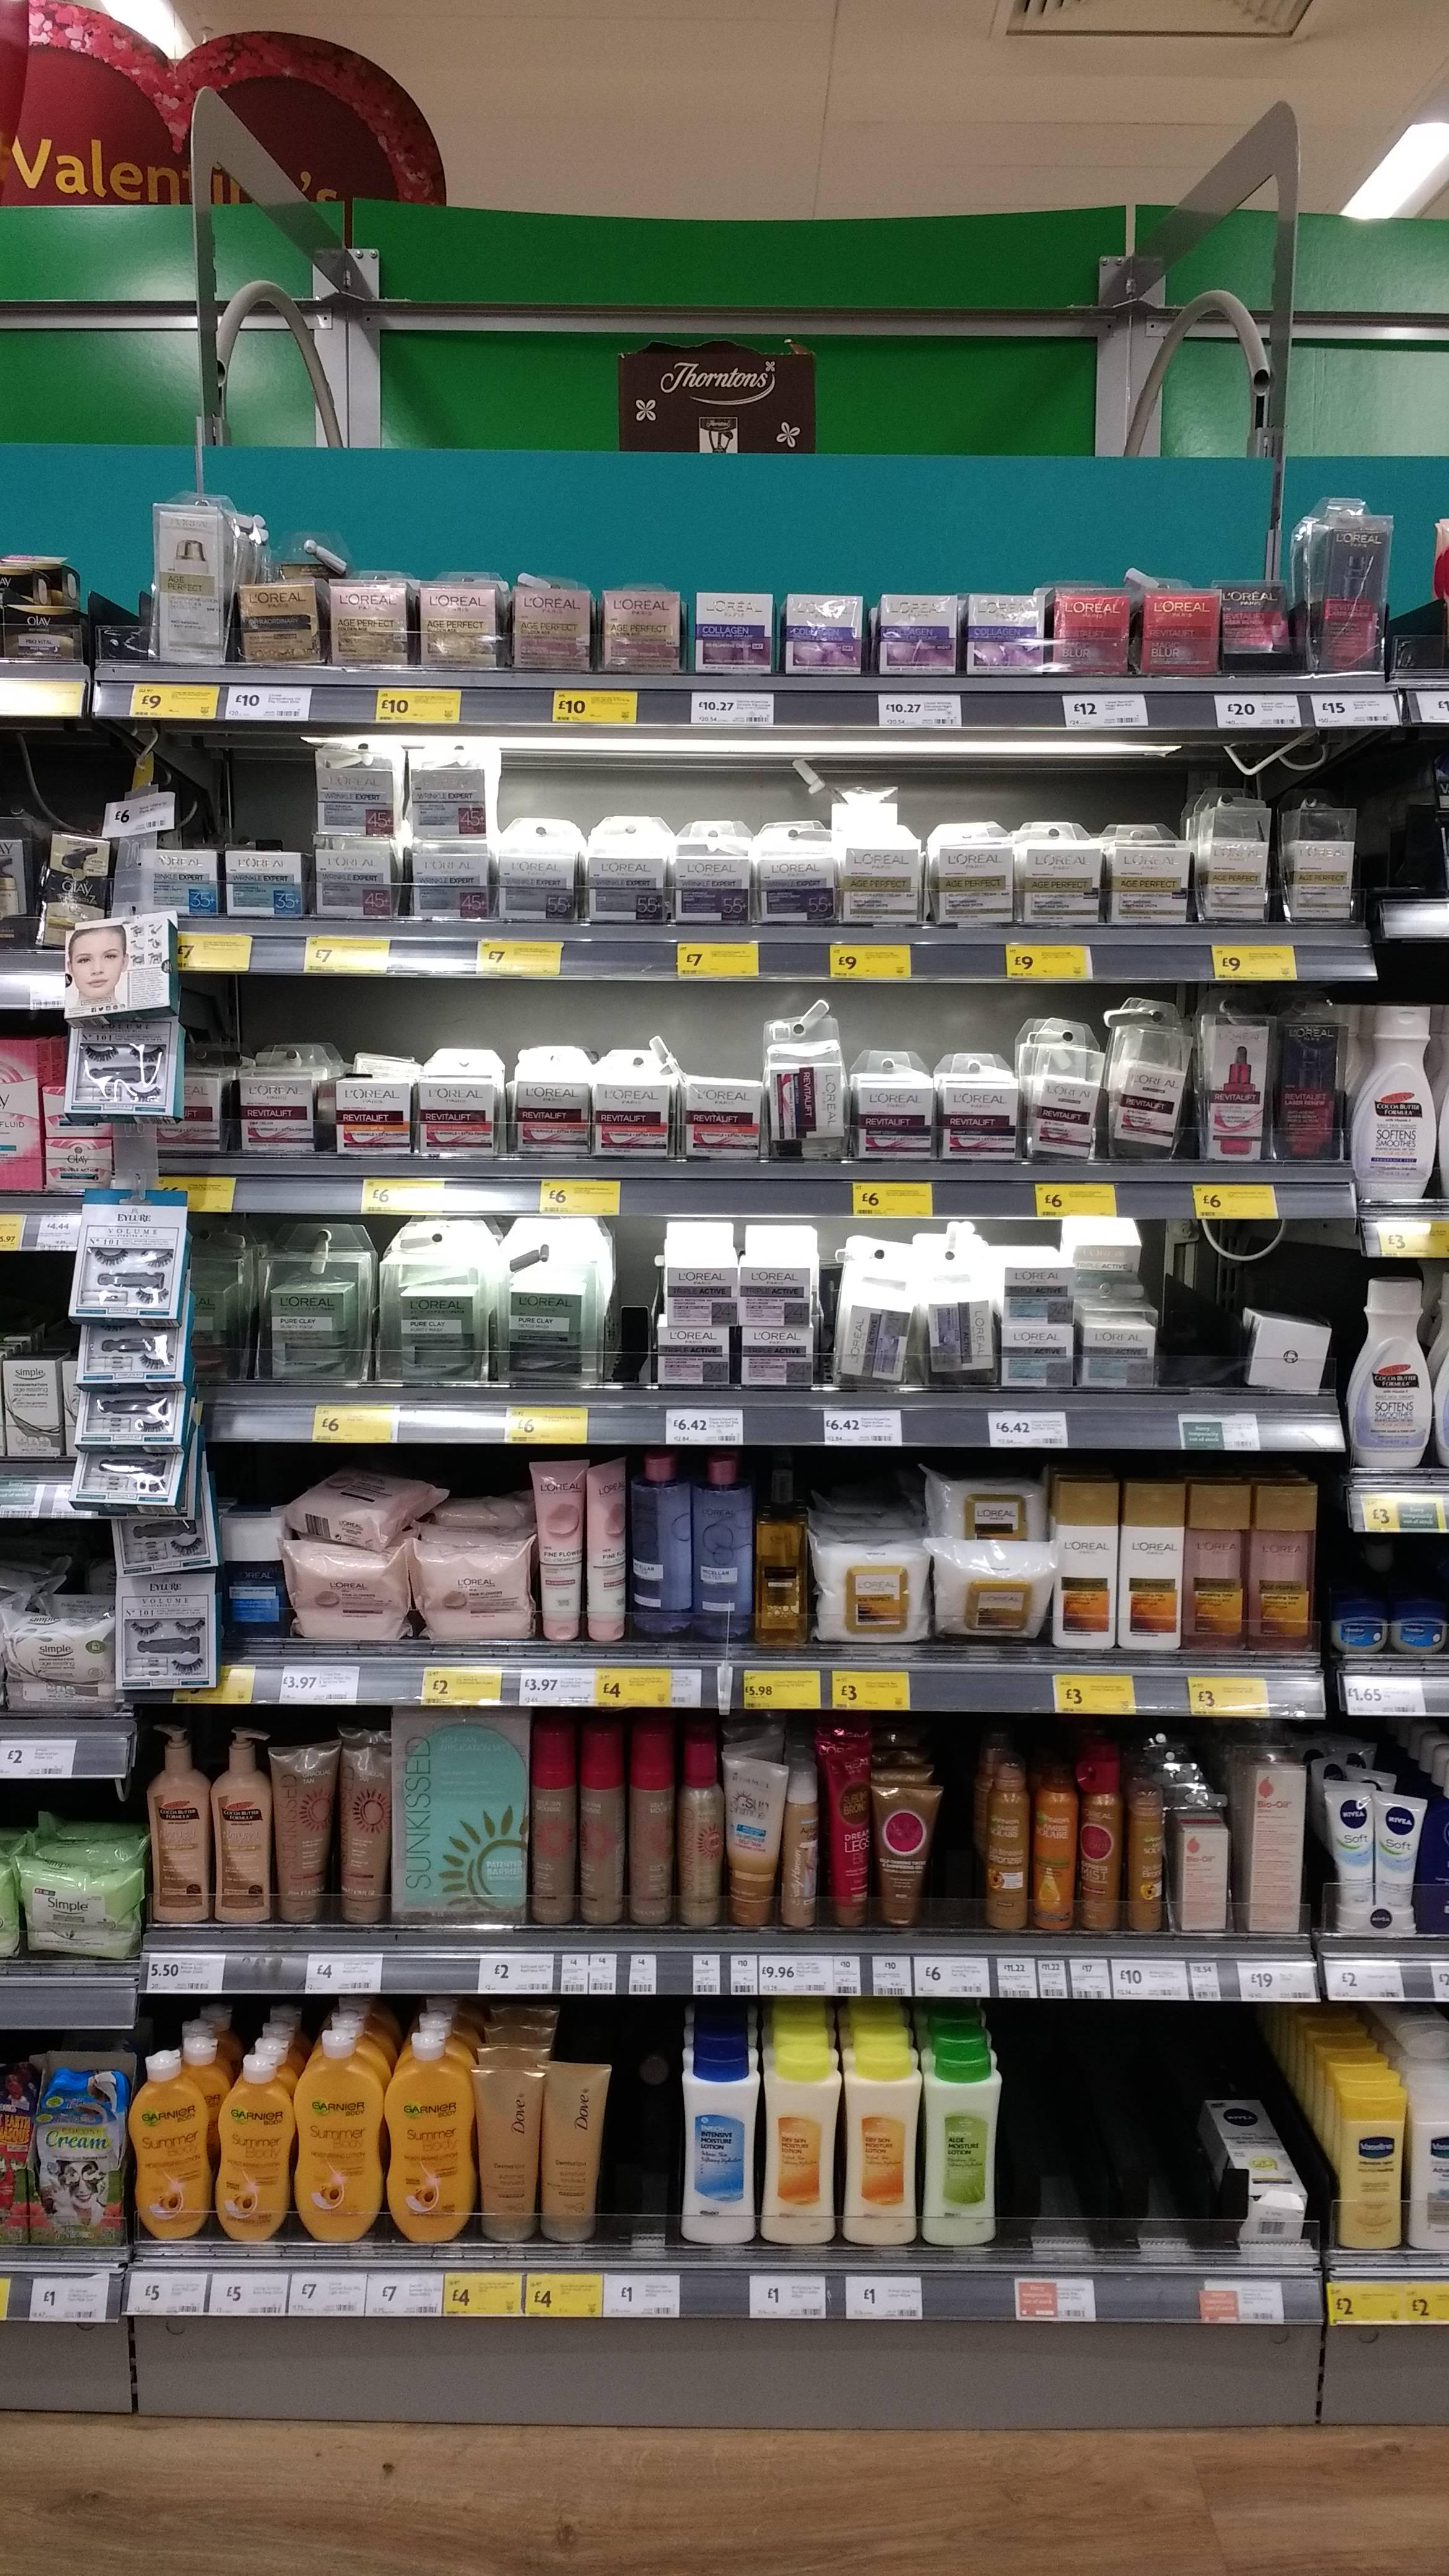misalignment: (1203, 2084, 1299, 2252), (1230, 1279, 1341, 1394), (294, 1461, 432, 1546), (1108, 1023, 1187, 1155), (819, 1750, 867, 1920), (582, 1467, 626, 1649), (1056, 1226, 1148, 1297)
